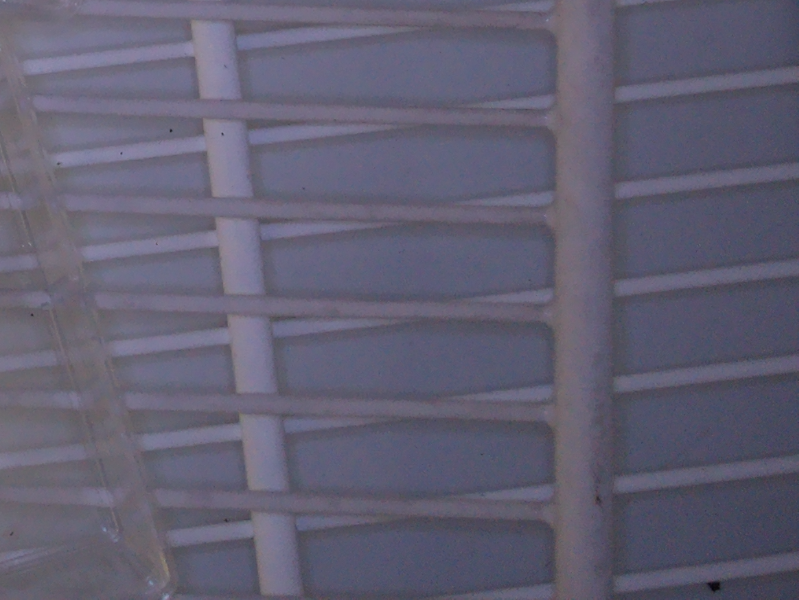plate: (1, 31, 184, 600)
